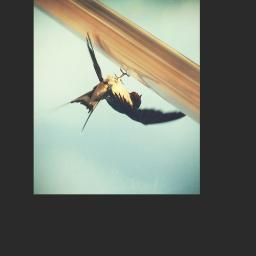Swallow: (48, 32, 188, 134)
